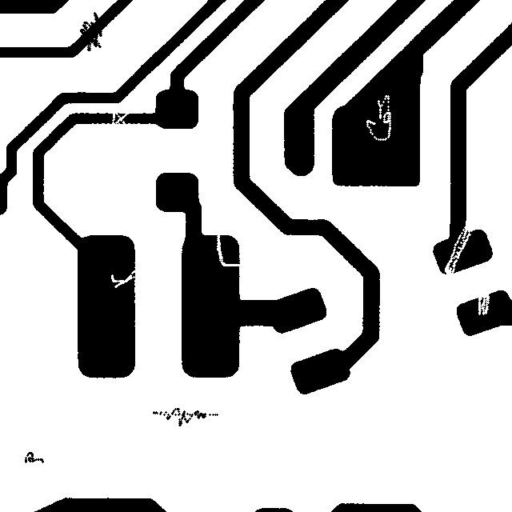copper: (145, 400, 226, 434), (17, 444, 51, 470)
mousebite: (103, 262, 146, 295), (470, 284, 497, 322)
open: (437, 210, 482, 285), (209, 221, 250, 274), (102, 101, 138, 138)
pin-hole: (358, 87, 398, 148)
spur: (72, 4, 110, 58)
